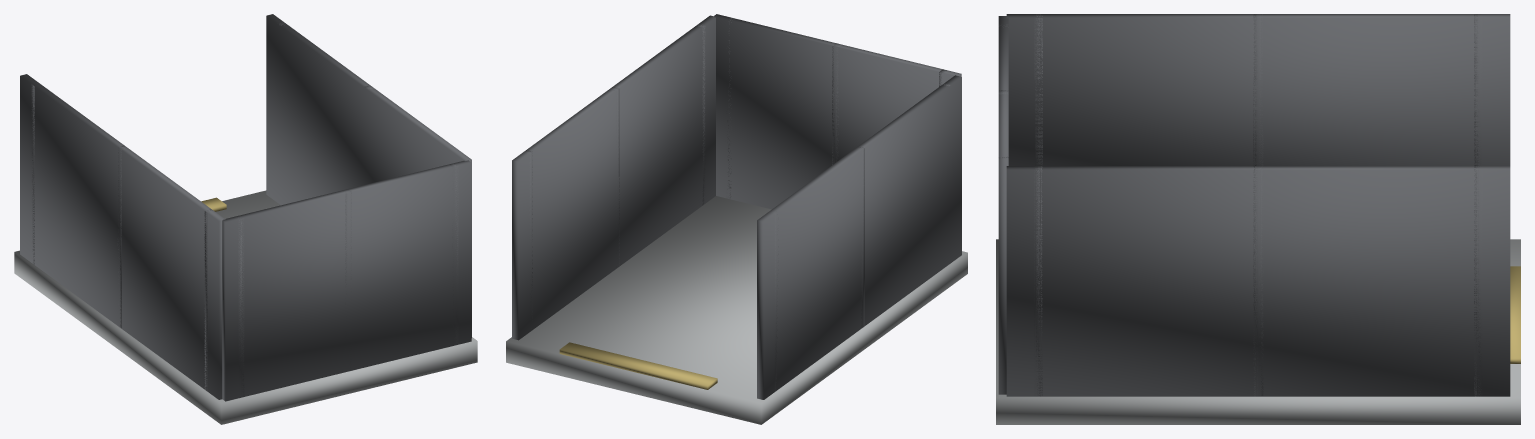
Rendered from floor_w150_d210_three.glb.
The picture shows the model from 3 angles, left to right: view 1: azimuth 30°, elevation 25°; view 2: azimuth 150°, elevation 25°; view 3: azimuth 270°, elevation 25°; orthographic projection. The views are drawn at different scales.
Visible parts, largest first — view 1: world; view 2: world; view 3: world.
Boxes of the visible parts, left/top/right/bottom form: world: left=14, top=14, right=477, bottom=424; world: left=506, top=14, right=967, bottom=424; world: left=996, top=14, right=1520, bottom=424.
Bounding box in the file's own units: 1.5 × 1.12 × 2.1.
